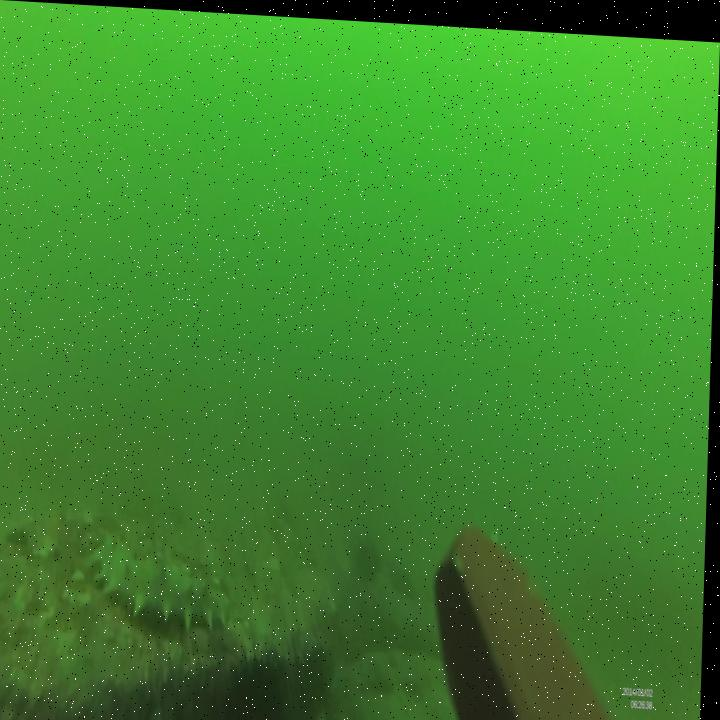echinus: (227, 635, 293, 720), (354, 526, 385, 578)
holothurian: (90, 533, 234, 633)
